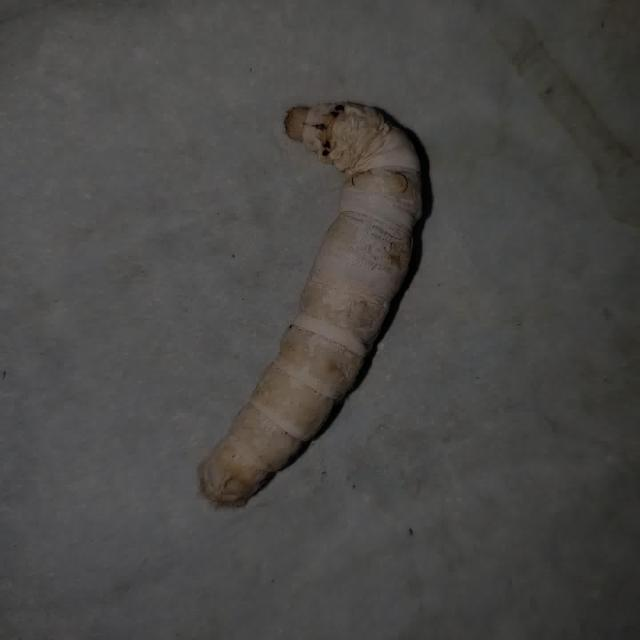Grasserie: (185, 64, 492, 531)
